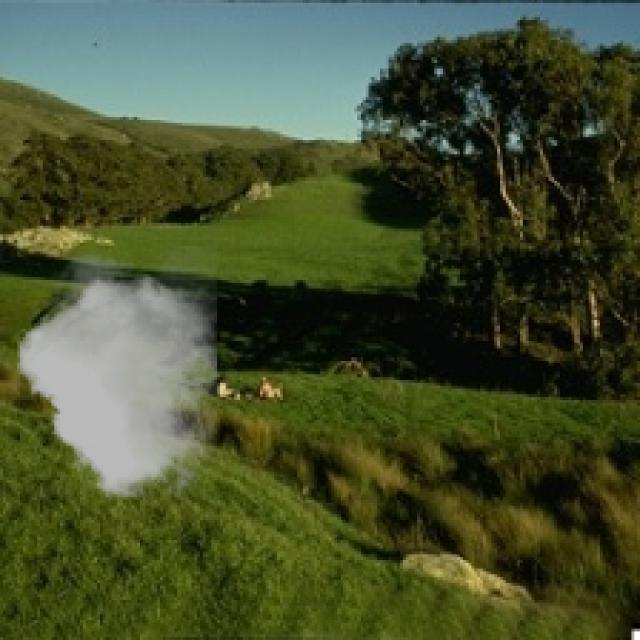smoke: (17, 246, 217, 503)
